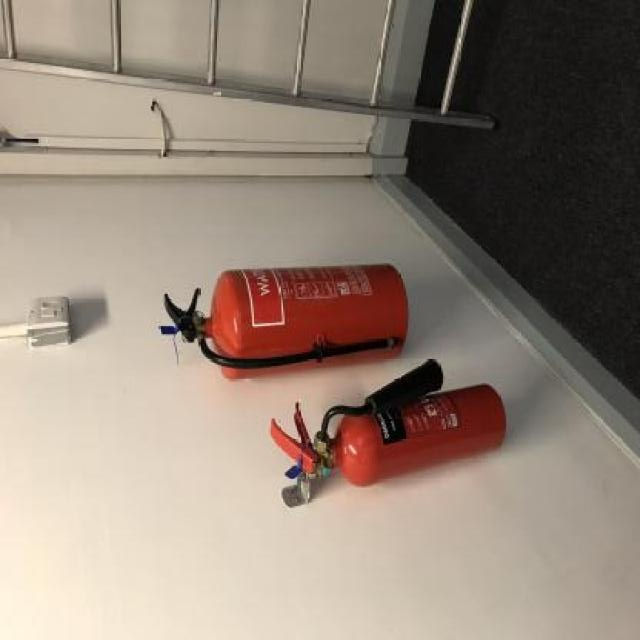fire extinguisher: (156, 260, 409, 385), (271, 359, 506, 489)
